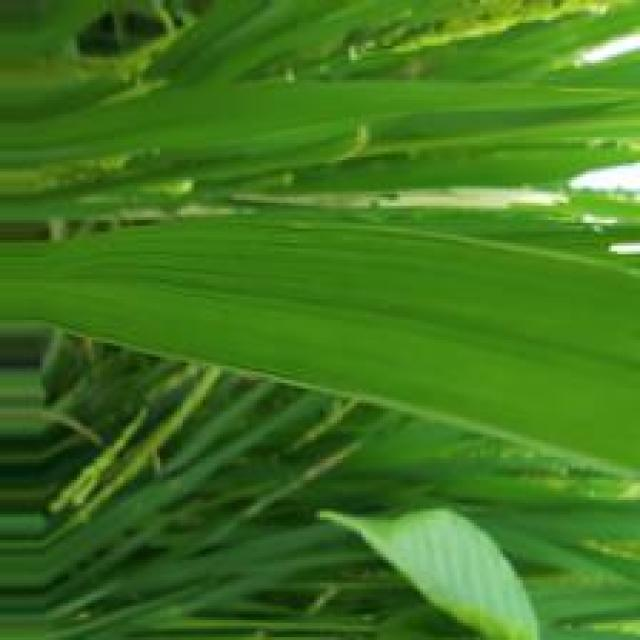HealthyLeaf: (78, 231, 635, 463)
